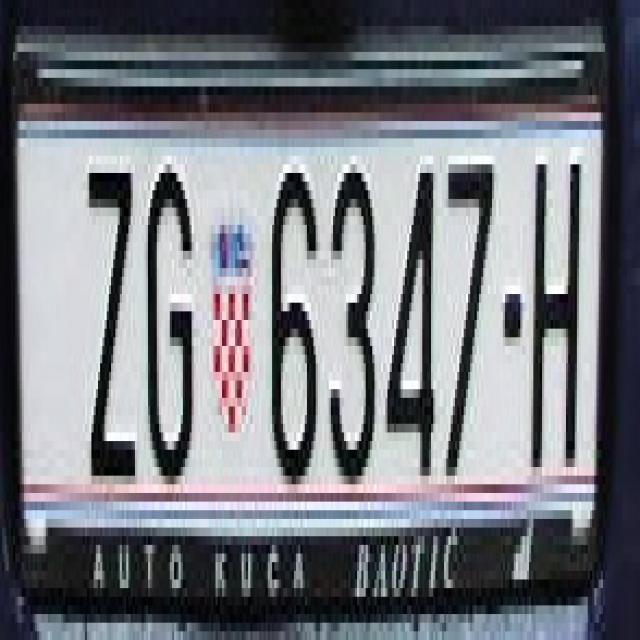3: (324, 147, 376, 484)
4: (383, 147, 438, 467)
6: (266, 156, 320, 494)
7: (440, 130, 494, 476)
G: (142, 165, 198, 484)
H: (524, 138, 580, 476)
Z: (85, 138, 133, 476)
